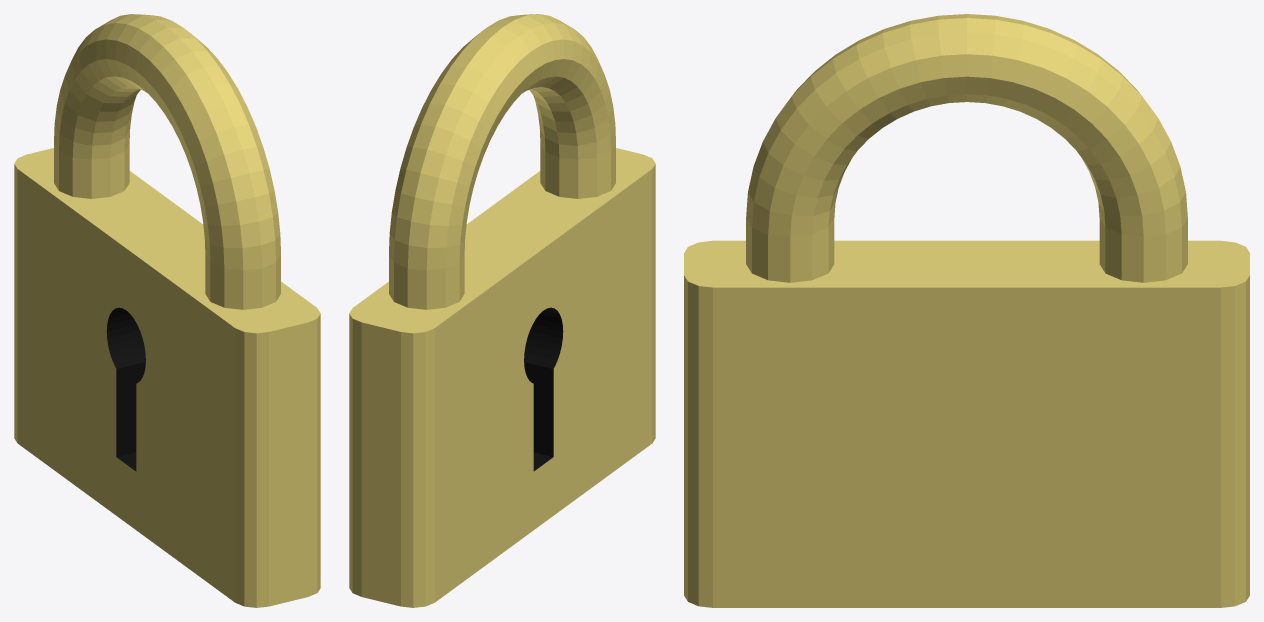
File: Padlock.fbx
3 renders of one model, left to right at view 1: azimuth 30°, elevation 25°; view 2: azimuth 150°, elevation 25°; view 3: azimuth 270°, elevation 25°, orthographic. The views are drawn at different scales.
Parts seen in each view (by area): view 1: トーラス; view 2: トーラス; view 3: トーラス.
Boxes of the visible parts, x1,y1,x2,y2 form: トーラス: (14, 14, 320, 607); トーラス: (349, 14, 655, 607); トーラス: (684, 14, 1249, 607).
Size of the model in its own units: 62.7 by 354 by 320.
